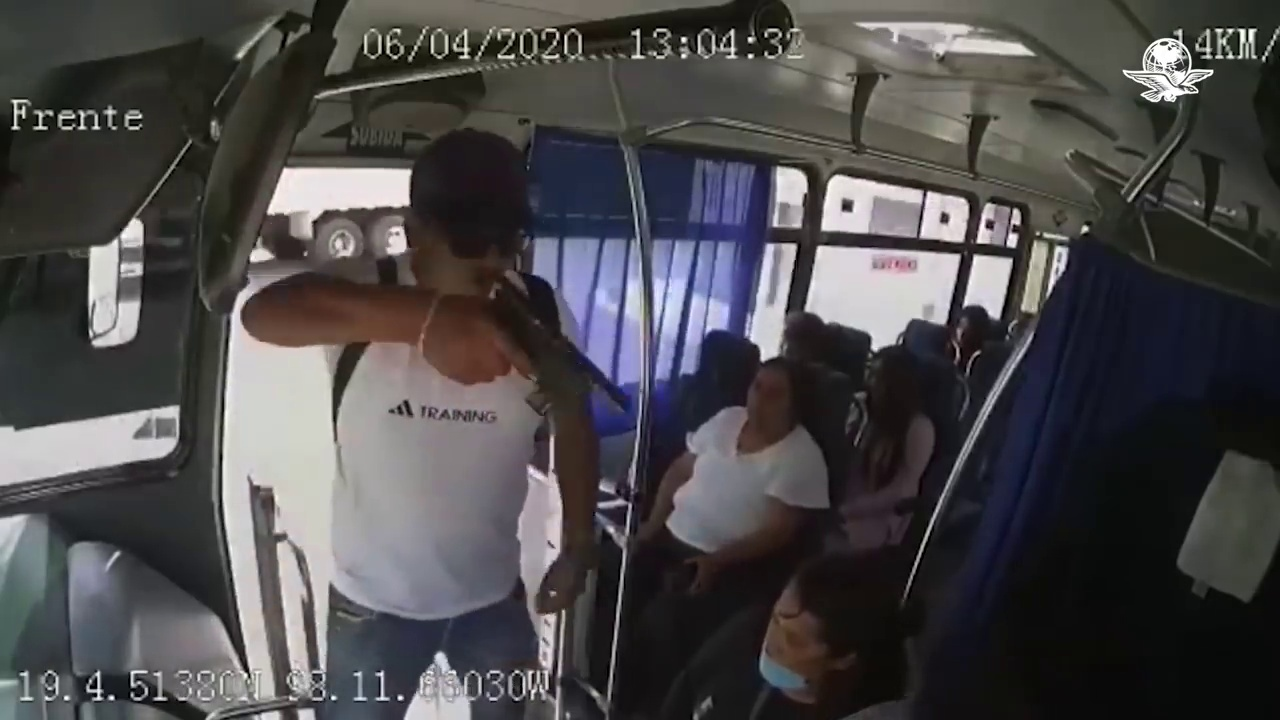pistol: (488, 275, 637, 420)
